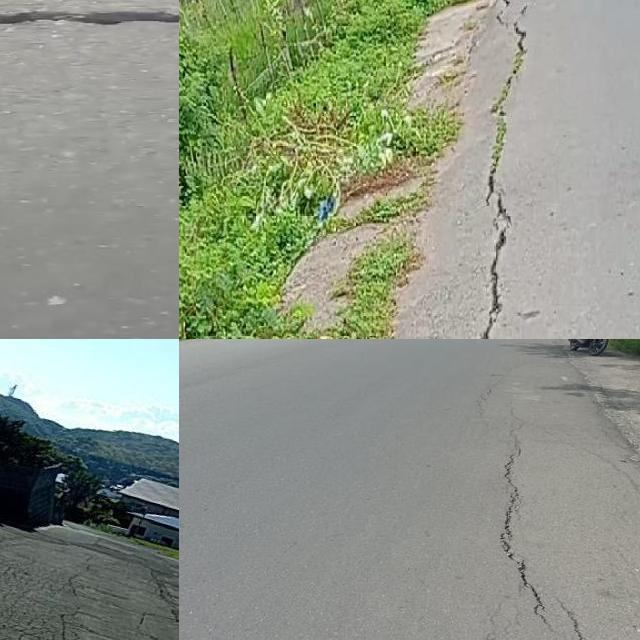Melintang: (0, 0, 179, 40)
Memanjang: (480, 405, 584, 640), (468, 17, 540, 339)
